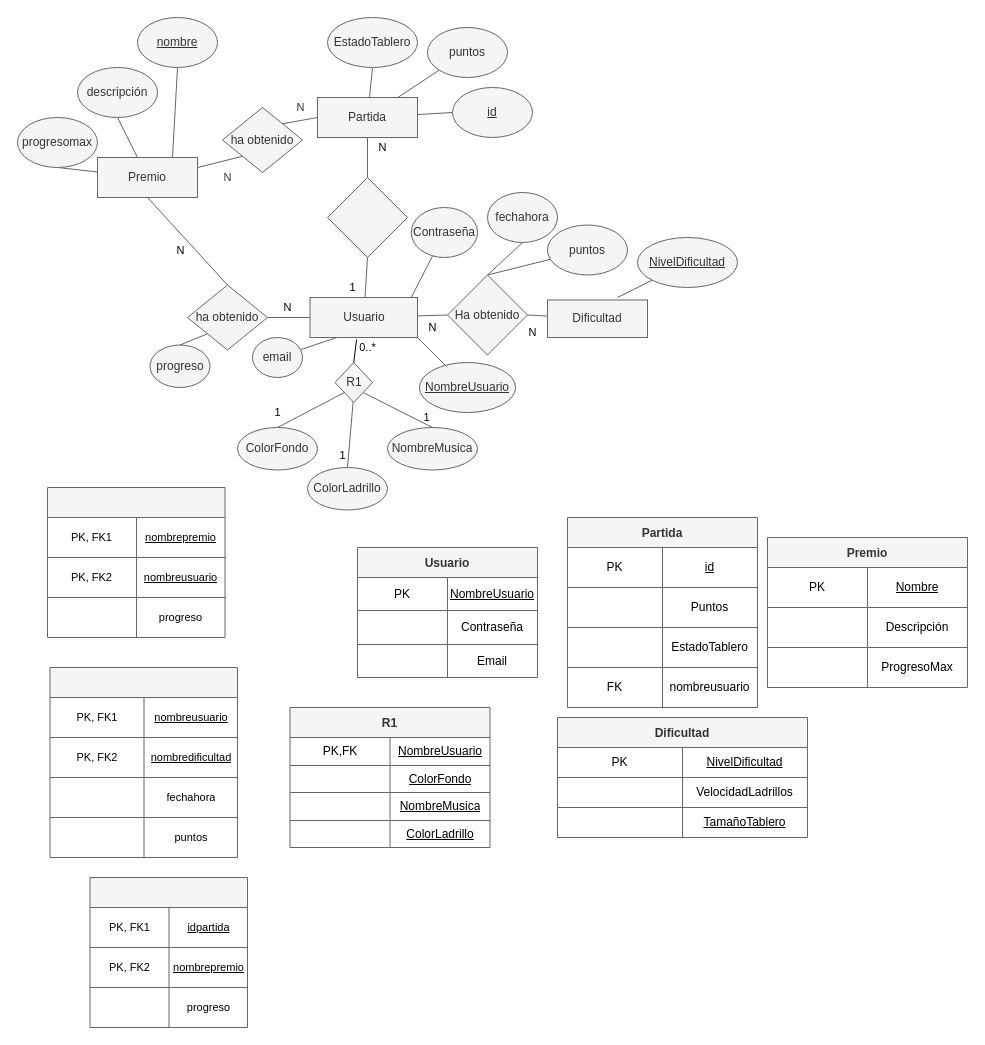
The diagram is 985 pixels wide and 1045 high, and some of its shapes have lost their labels. Here are the shapes that lost their labels. From the top down, the box of each, then its label:
(326, 176, 408, 258): Guarda
(46, 486, 225, 638): PremioObtenido
(49, 666, 238, 858): Ranking
(89, 876, 248, 1028): PremiosEnPartida
